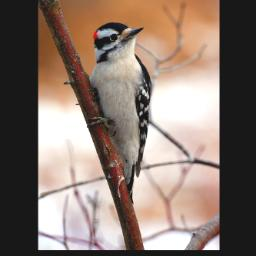Woodpecker: (86, 22, 151, 205)
